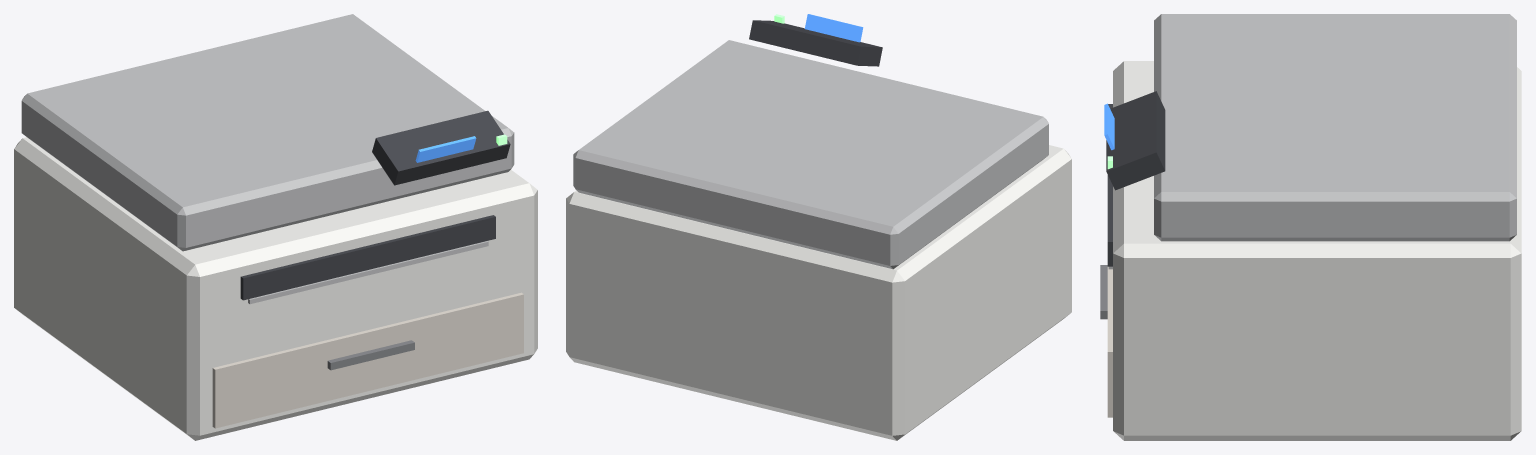
Rendered from printer_mfp.glb.
3 renders of one model, left to right at view 1: azimuth 30°, elevation 25°; view 2: azimuth 150°, elevation 25°; view 3: azimuth 270°, elevation 25°, orthographic. The views are drawn at different scales.
Visible parts, largest first — view 1: printer_mfp, printer_mfp_screen; view 2: printer_mfp, printer_mfp_screen; view 3: printer_mfp.
Boxes of the visible parts, x1,y1,x2,y2 form: printer_mfp: [14, 14, 537, 440]; printer_mfp_screen: [415, 136, 476, 162]; printer_mfp: [566, 20, 1071, 440]; printer_mfp_screen: [804, 14, 863, 42]; printer_mfp: [1100, 14, 1521, 440].
Bounding box in the file's own units: 0.5 × 0.3332 × 0.464.
Materials: 3 (1 with a texture image).
